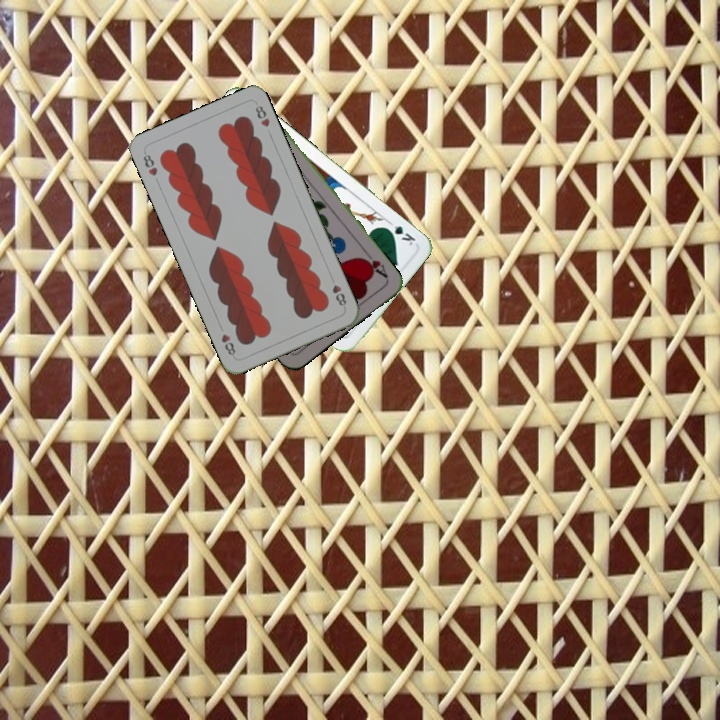GK: (381, 217, 418, 248)
H8: (139, 148, 160, 179), (328, 280, 349, 309)
HA: (358, 247, 391, 282)
